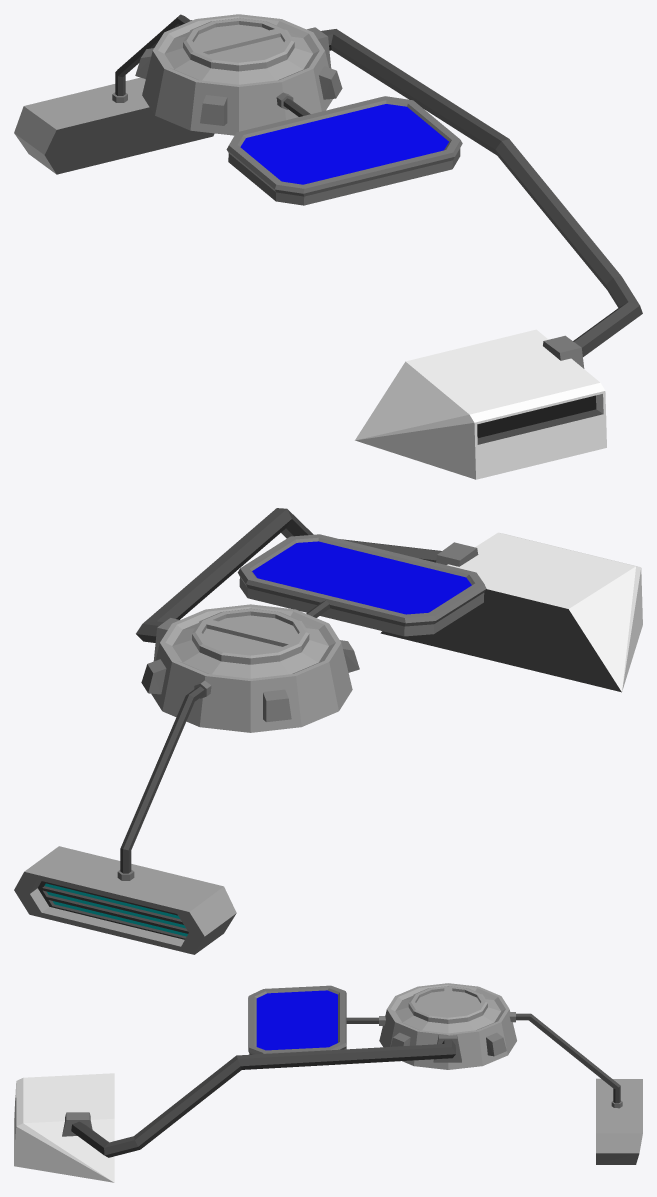
The model's file is Proto_Vehicle_Car_Cyber_Retrofit_Power_System_01.fbx.
3 views of the same model, one above another, from view 1: azimuth 30°, elevation 25°; view 2: azimuth 150°, elevation 25°; view 3: azimuth 270°, elevation 25° (orthographic). The views are drawn at different scales.
Parts seen in each view (by area): view 1: Proto_Vehicle_Car_Cyber_Retrofit_Power_System_01; view 2: Proto_Vehicle_Car_Cyber_Retrofit_Power_System_01; view 3: Proto_Vehicle_Car_Cyber_Retrofit_Power_System_01.
Boxes of the visible parts, box(x1,y1,x2,y2) form: Proto_Vehicle_Car_Cyber_Retrofit_Power_System_01: box(14, 14, 642, 479); Proto_Vehicle_Car_Cyber_Retrofit_Power_System_01: box(14, 508, 642, 954); Proto_Vehicle_Car_Cyber_Retrofit_Power_System_01: box(14, 983, 642, 1182).
Size of the model in its own units: 1.42 by 0.9502 by 3.81.
